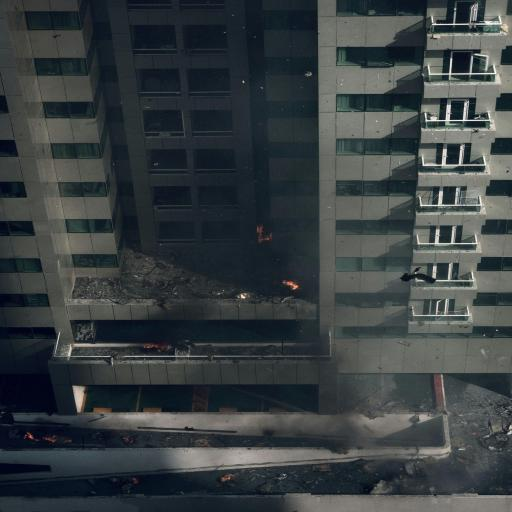buildingfire: (112, 128, 331, 303)
